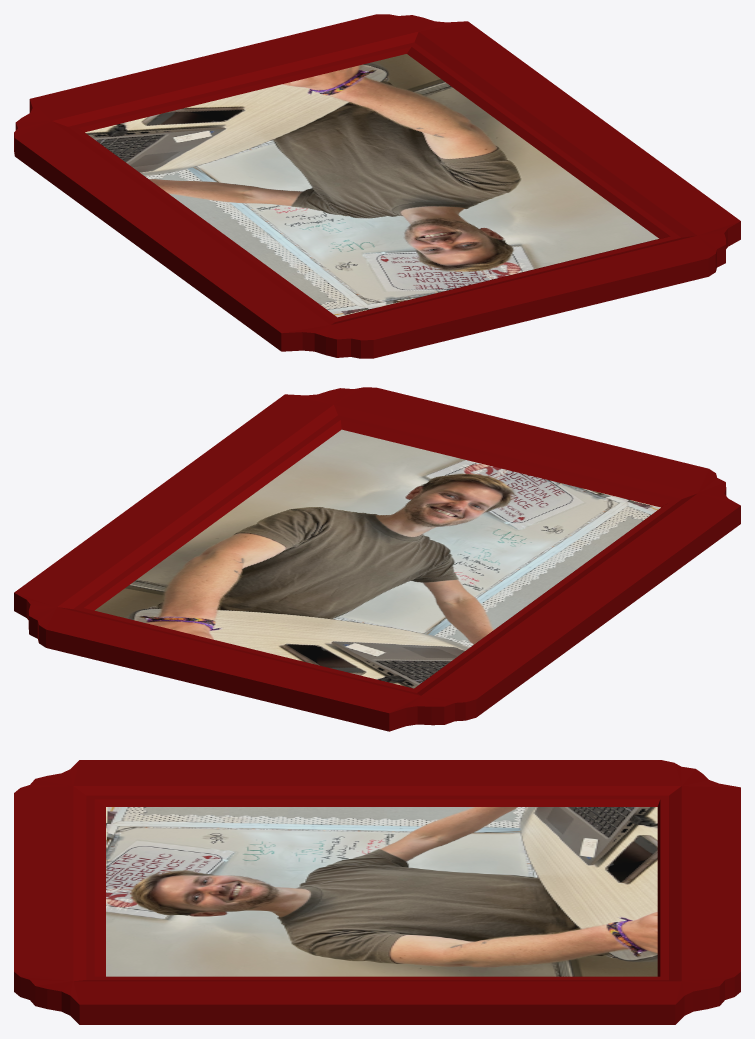
The model's file is pic3.fbx.
3 views of the same model, one above another, from view 1: azimuth 30°, elevation 25°; view 2: azimuth 150°, elevation 25°; view 3: azimuth 270°, elevation 25° (orthographic). The views are drawn at different scales.
Visible parts, largest first — view 1: PicFrame3; view 2: PicFrame3; view 3: PicFrame3.
Boxes of the visible parts, bbox=[...] form: PicFrame3: bbox=[14, 14, 740, 358]; PicFrame3: bbox=[14, 387, 740, 731]; PicFrame3: bbox=[14, 760, 740, 1024].
Bounding box in the file's own units: 296 × 11.38 × 372.
